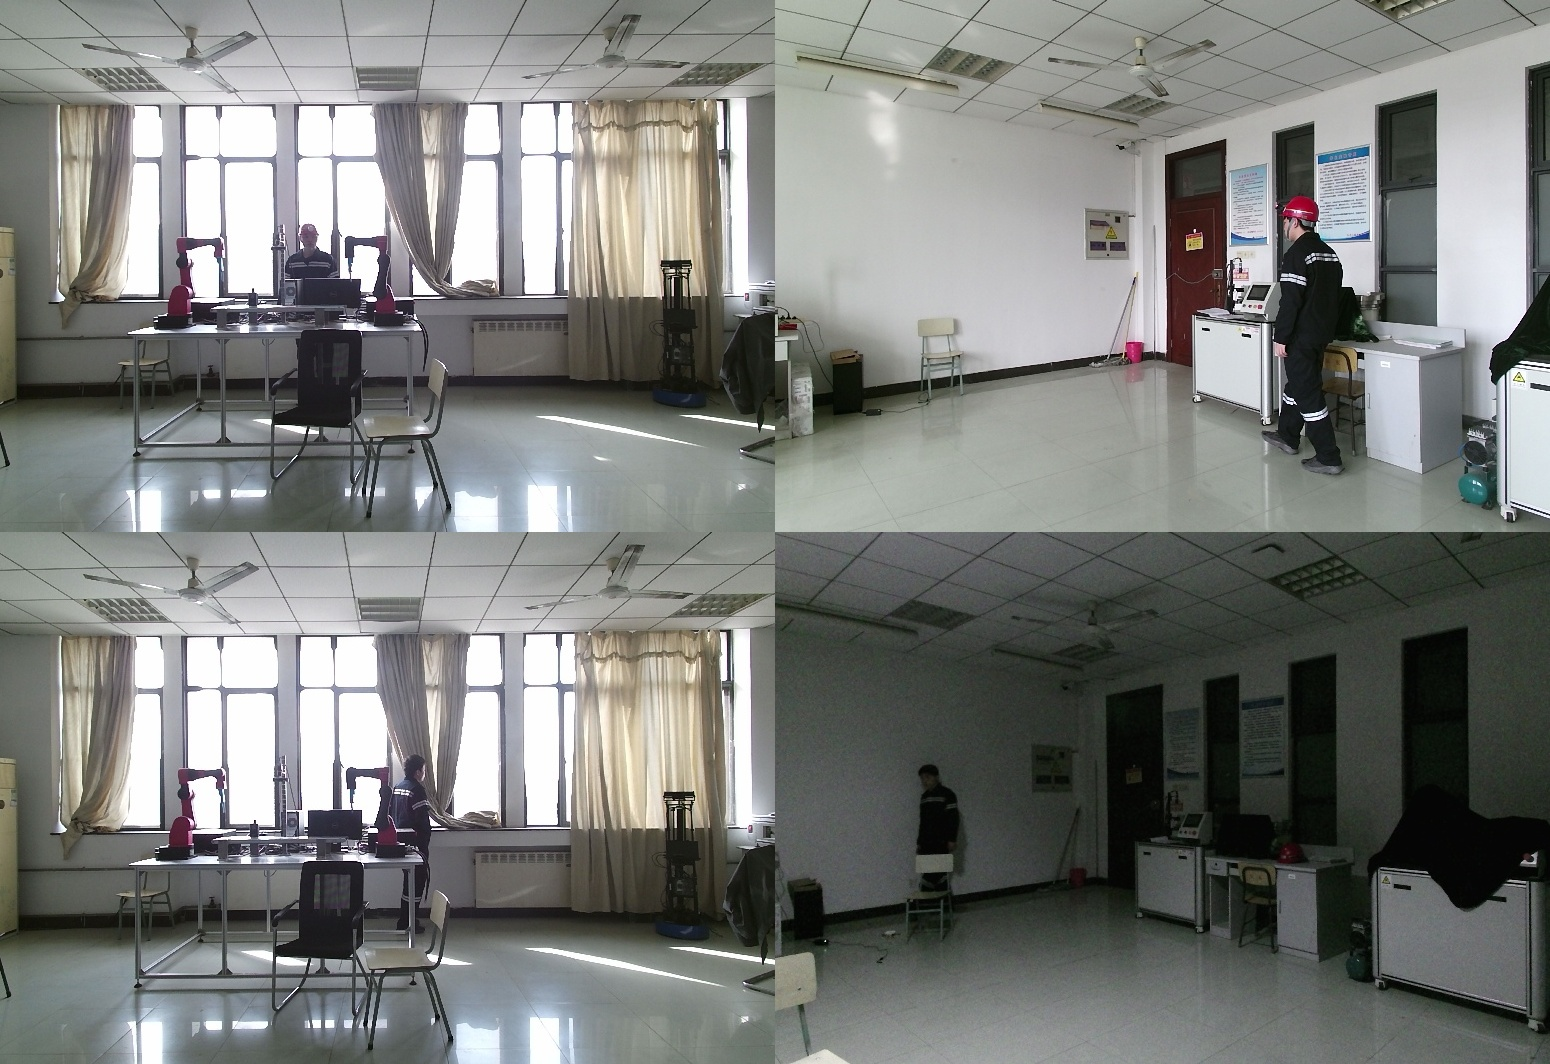person: (1270, 194, 1351, 471), (394, 754, 440, 945), (916, 764, 965, 858), (283, 222, 342, 281)
